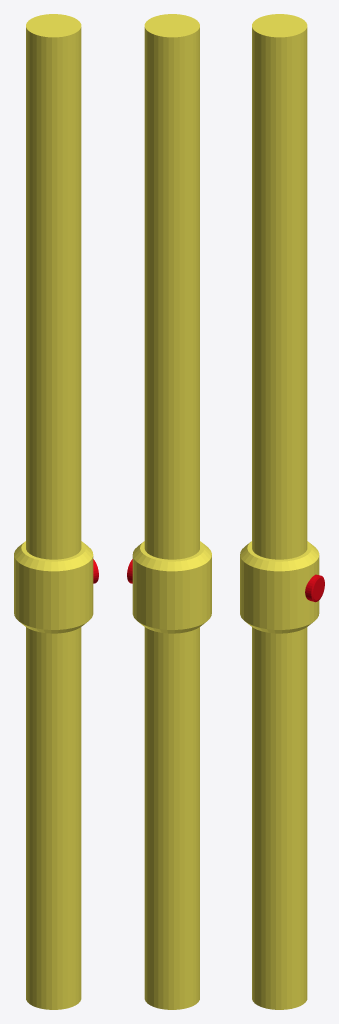
File: busbutton2.fbx
3 renders of one model, left to right at view 1: azimuth 30°, elevation 25°; view 2: azimuth 150°, elevation 25°; view 3: azimuth 330°, elevation 25°, orthographic.
Parts seen in each view (by area): view 1: Cylinder; view 2: Cylinder; view 3: Cylinder.
Part boxes in pixels (box(x1,y1,x2,y2)): Cylinder: box(14, 14, 98, 1009); Cylinder: box(127, 14, 211, 1009); Cylinder: box(240, 14, 324, 1009).
Bounding box in the file's own units: 31.88 × 403 × 29.83.
